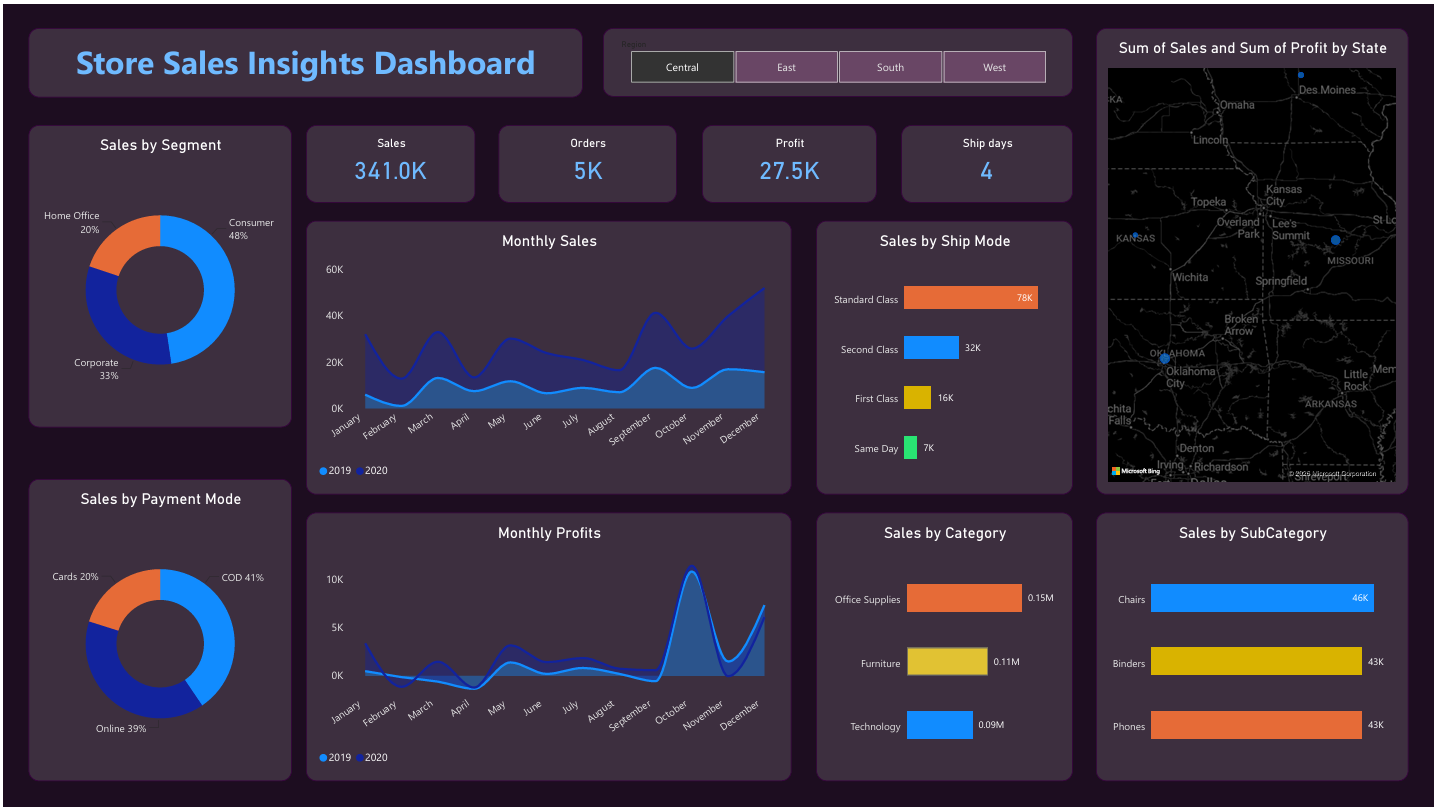

The dashboard page shown, as its layout file describes it:
{"tool":"powerbi","page":{"name":"Page 1","canvas":[1920,1080],"ordinal":0},"visuals":[{"type":"clusteredBarChart","title":"Sales by Category","fields":{"Category":["Sheet1.Category"],"Y":["Sum(Sheet1.Sales)"]},"box":[1089.5,679.7,343.4,360],"z":0},{"type":"clusteredBarChart","title":"Sales by SubCategory","fields":{"Category":["Sheet1.Sub-Category"],"Y":["Sum(Sheet1.Sales)"]},"box":[1463.7,679.7,419.2,360],"z":1000},{"type":"clusteredBarChart","title":"Sales by Ship Mode","fields":{"Category":["Sheet1.Ship Mode"],"Y":["Sum(Sheet1.Sales)"]},"box":[1089.5,289,343.4,367.1],"z":2000},{"type":"stackedAreaChart","title":"Monthly Sales ","fields":{"Category":["Sheet1.Order Date.Variation.Date Hierarchy.Month","Sheet1.Order Date.Variation.Date Hierarchy.Day"],"Series":["Sheet1.Order Date.Variation.Date Hierarchy.Year"],"Y":["Sum(Sheet1.Sales)"]},"box":[405,289,651.3,367.1],"z":3000},{"type":"stackedAreaChart","title":"Monthly Profits ","fields":{"Category":["Sheet1.Order Date.Variation.Date Hierarchy.Month","Sheet1.Order Date.Variation.Date Hierarchy.Day"],"Series":["Sheet1.Order Date.Variation.Date Hierarchy.Year"],"Y":["Sum(Sheet1.Profit)"]},"box":[405,679.7,651.3,360],"z":4000},{"type":"map","fields":{"Category":["Sheet1.State"],"Size":["Sum(Sheet1.Sales)"]},"box":[1463.7,30.8,419.2,625.3],"z":5000},{"type":"donutChart","title":"Sales by Segment","fields":{"Category":["Sheet1.Segment"],"Y":["Sum(Sheet1.Sales)"]},"box":[33.2,161.1,352.9,405],"z":6000},{"type":"donutChart","title":"Sales by Payment Mode","fields":{"Category":["Sheet1.Payment Mode"],"Y":["Sum(Sheet1.Sales)"]},"box":[33.2,634.7,352.9,405],"z":7000},{"type":"slicer","fields":{"Values":["Sheet1.Region"]},"box":[802.9,30.8,630,92.4],"z":8000},{"type":"textbox","box":[33.2,30.8,742.7,93.1],"z":9000},{"type":"cardVisual","title":"Ship days","fields":{"Data":["Avg(Sheet1.AvgDelivery)"]},"box":[1203.2,161.1,229.7,104.2],"z":10000},{"type":"cardVisual","title":"Orders","fields":{"Data":["Sum(Sheet1.Quantity)"]},"box":[663.2,161.1,239.2,104.2],"z":11000},{"type":"cardVisual","title":"Profit","fields":{"Data":["Sum(Sheet1.Profit)"]},"box":[935.5,161.1,234.5,104.2],"z":12000},{"type":"cardVisual","title":"Sales","fields":{"Data":["Sum(Sheet1.Sales)"]},"box":[405,161.1,227.4,104.2],"z":13000}]}

Visuals, with their boxes in screenshot pixels (x1, y1, x2, y2), scaled from the page's 1920x1080 canvas onto the 1434x807 screenshot:
"Sales by Category" clusteredBarChart: crop(814, 508, 1070, 777)
"Sales by SubCategory" clusteredBarChart: crop(1093, 508, 1406, 777)
"Sales by Ship Mode" clusteredBarChart: crop(814, 216, 1070, 490)
"Monthly Sales " stackedAreaChart: crop(302, 216, 789, 490)
"Monthly Profits " stackedAreaChart: crop(302, 508, 789, 777)
map - Sheet1.State x Sum(Sheet1.Sales): crop(1093, 23, 1406, 490)
"Sales by Segment" donutChart: crop(25, 120, 288, 423)
"Sales by Payment Mode" donutChart: crop(25, 474, 288, 777)
slicer - Sheet1.Region: crop(600, 23, 1070, 92)
textbox: crop(25, 23, 580, 93)
"Ship days" cardVisual: crop(899, 120, 1070, 198)
"Orders" cardVisual: crop(495, 120, 674, 198)
"Profit" cardVisual: crop(699, 120, 874, 198)
"Sales" cardVisual: crop(302, 120, 472, 198)
